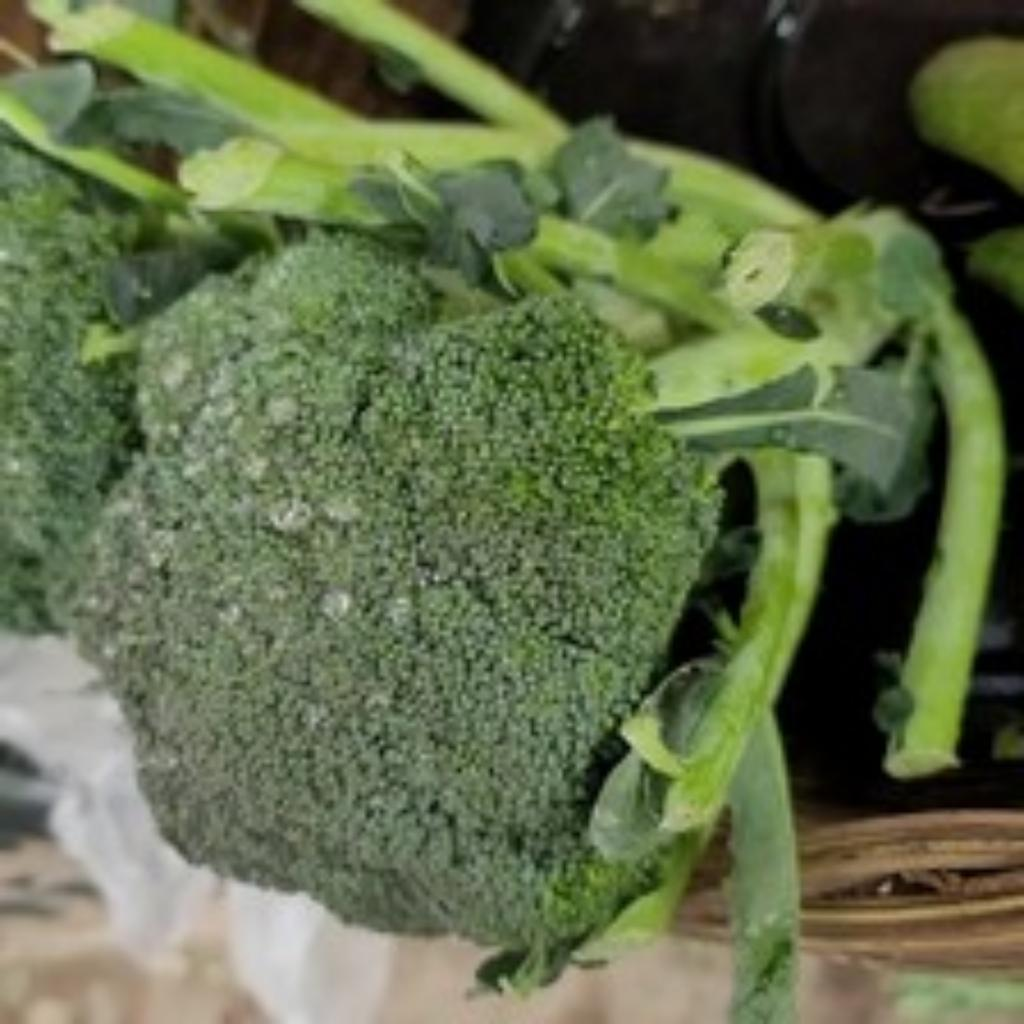Broccoli: (78, 238, 718, 943), (78, 238, 716, 943)
